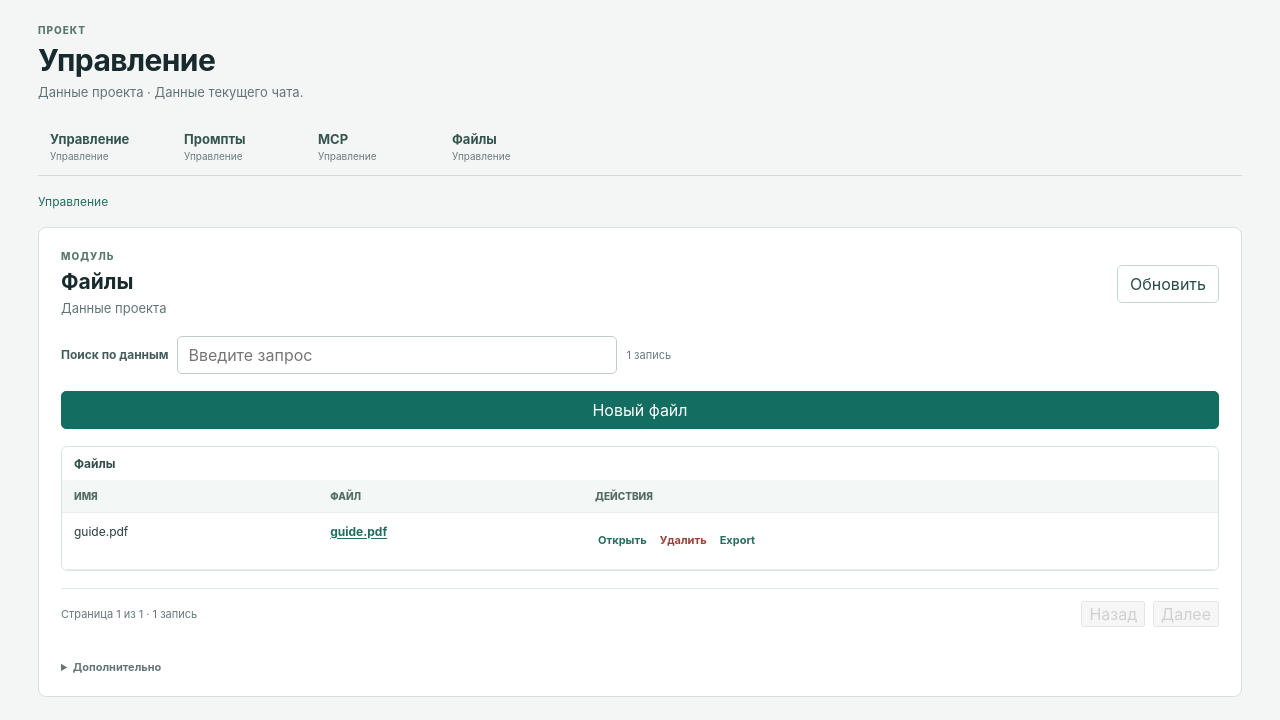
ModuleRuntime › does not invoke a row action with missing required parameters and shows backend errors
Click the button "Export": (737, 541) [717, 523, 758, 559]
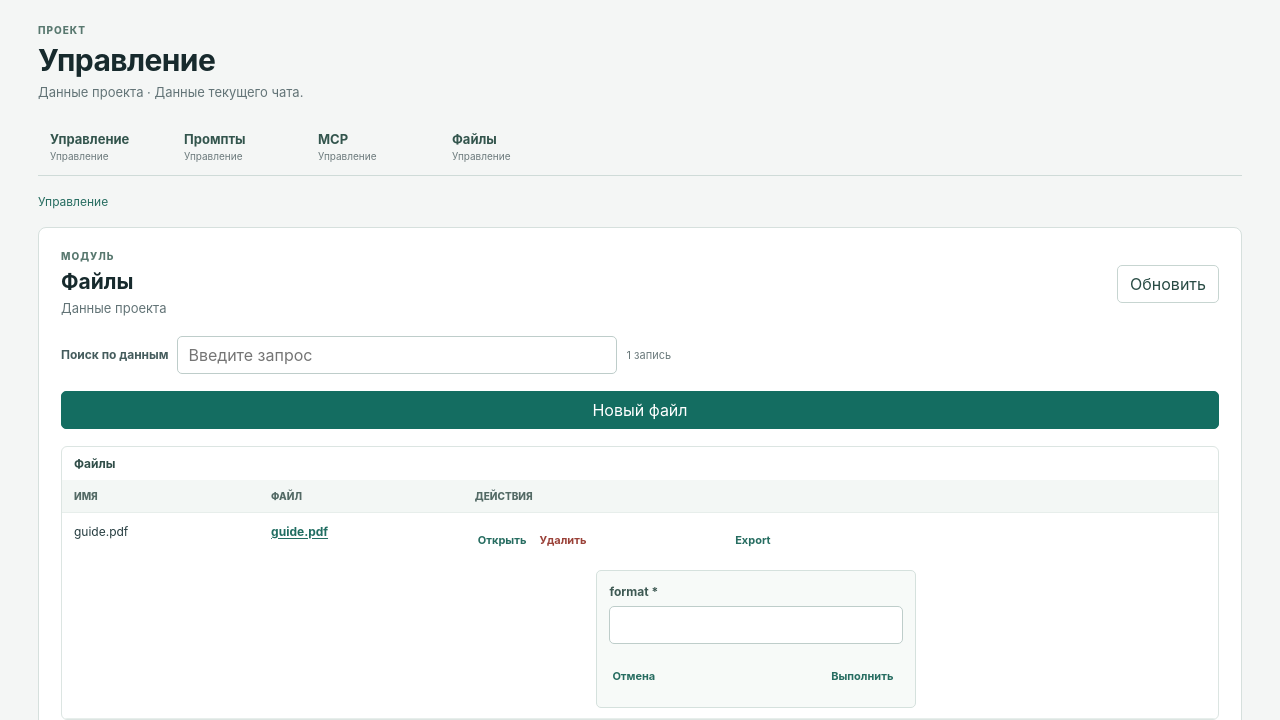
Submit the form with class "module-runtime-action-form", box [596, 570, 916, 708]
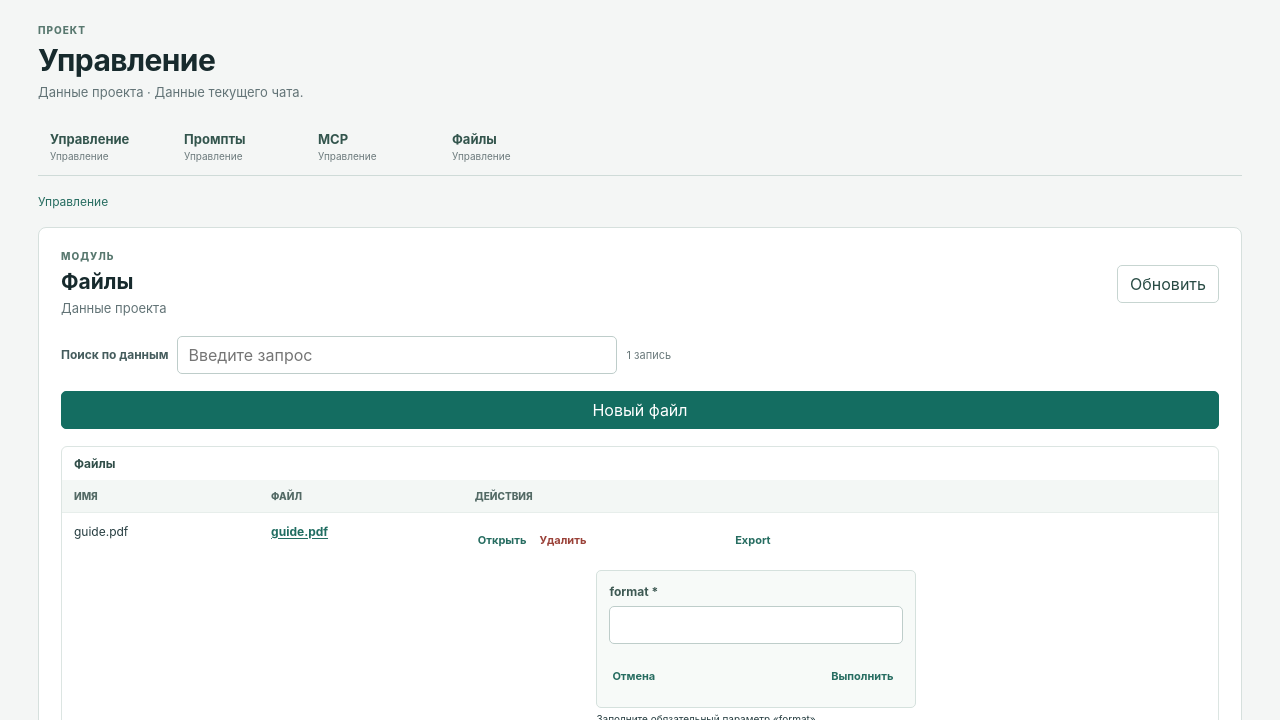
In the field named "format": (756, 625) [609, 606, 903, 644], type "csv"
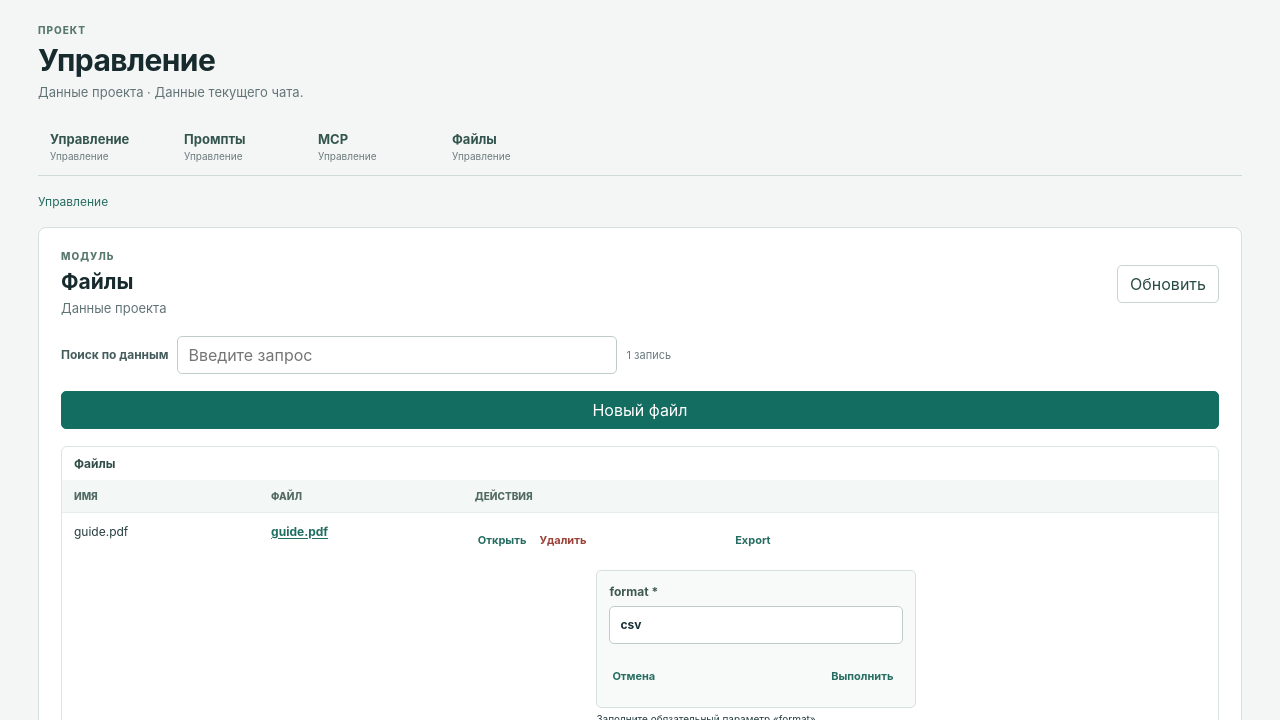
Submit the form with class "module-runtime-action-form", box [596, 570, 916, 708]
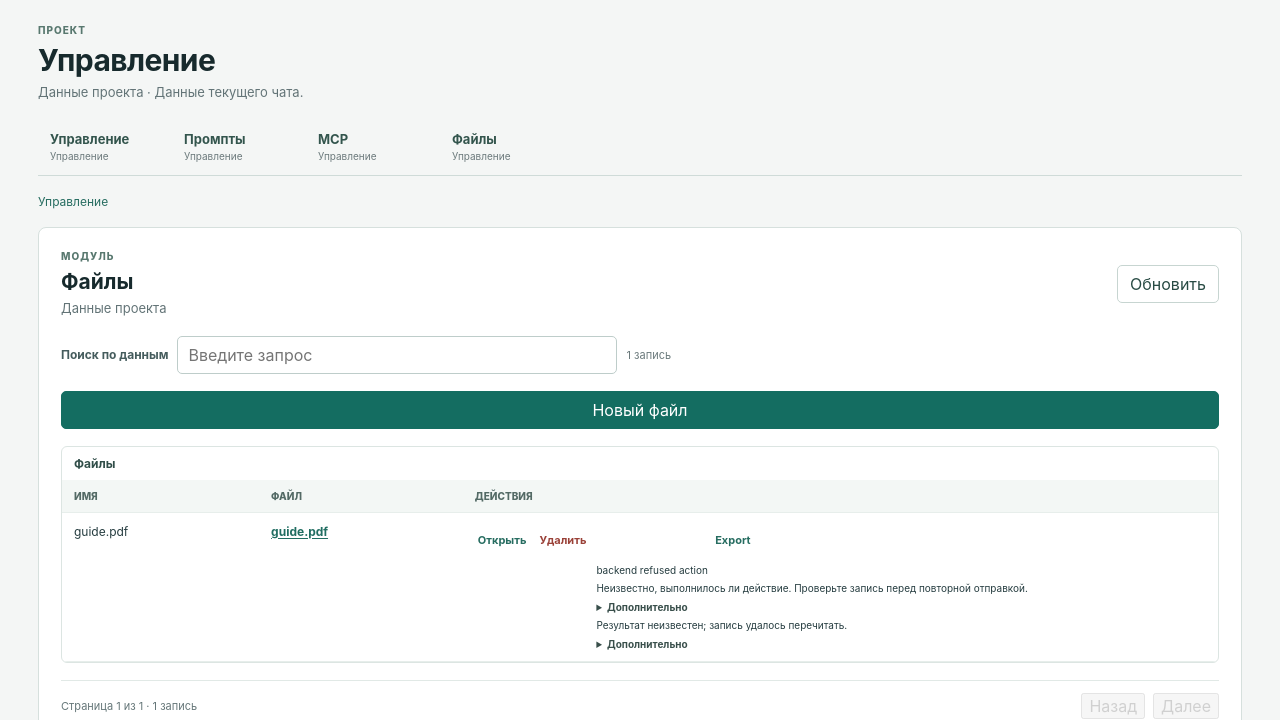
Expected: the text "backend refused action" is shown, [596, 564, 708, 576]
